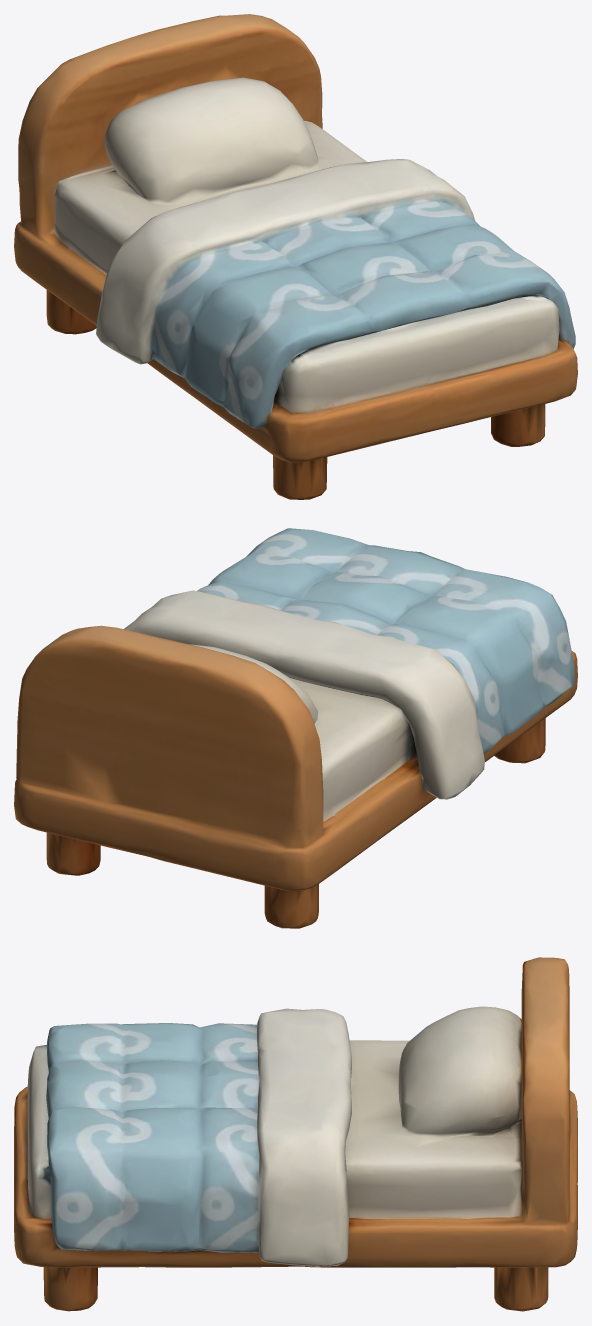
File: bed.glb
The picture shows the model from 3 angles, top to bottom: view 1: azimuth 30°, elevation 25°; view 2: azimuth 150°, elevation 25°; view 3: azimuth 270°, elevation 25°; orthographic projection.
Parts seen in each view (by area): view 1: tripo_node_58ea53f6-0002-4b2f-8d1e-97812011be24; view 2: tripo_node_58ea53f6-0002-4b2f-8d1e-97812011be24; view 3: tripo_node_58ea53f6-0002-4b2f-8d1e-97812011be24.
Boxes of the visible parts, x1,y1,x2,y2 form: tripo_node_58ea53f6-0002-4b2f-8d1e-97812011be24: (14, 14, 577, 499); tripo_node_58ea53f6-0002-4b2f-8d1e-97812011be24: (14, 528, 577, 928); tripo_node_58ea53f6-0002-4b2f-8d1e-97812011be24: (14, 957, 577, 1311).
Bounding box in the file's own units: 0.7345 × 0.4974 × 1.
1 material, 1 textured.
